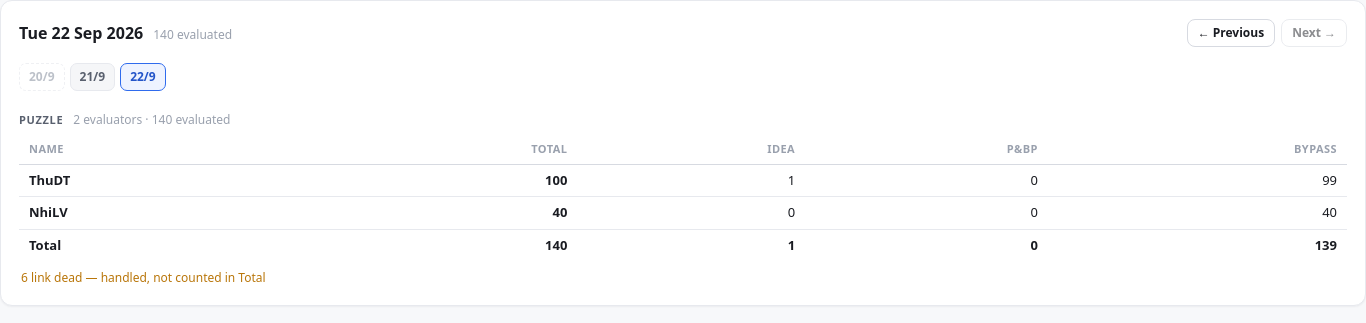
it: DailyBlock › switches day from the strip without re-reading the strip
Check: the text "Tue 22 Sep 2026" is shown, box [19,21,143,45]
Click the button "21/9".
click(92, 77)  # box [70,63,115,91]
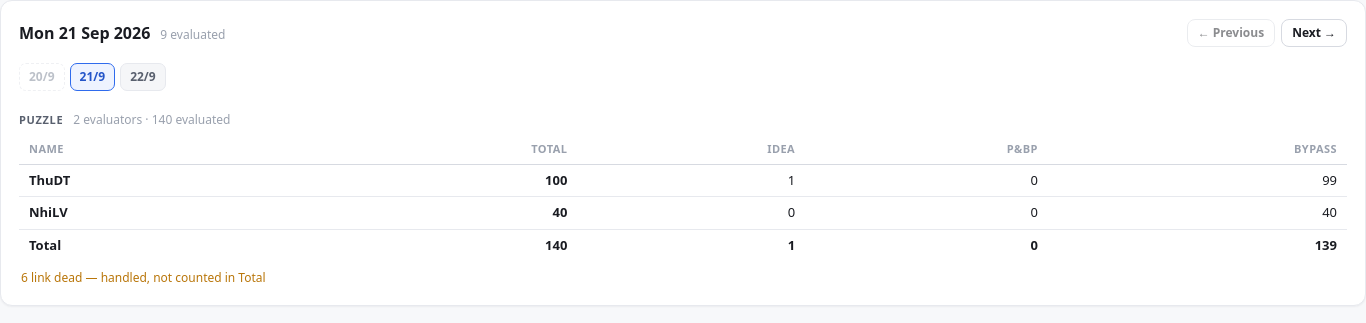
Check: the number of buttons with class "rp-daily-chip" is 3, box [19,63,65,91]; [70,63,115,91]; [120,63,166,91]
Check: the text "Mon 21 Sep 2026" is shown, box [19,21,150,45]
